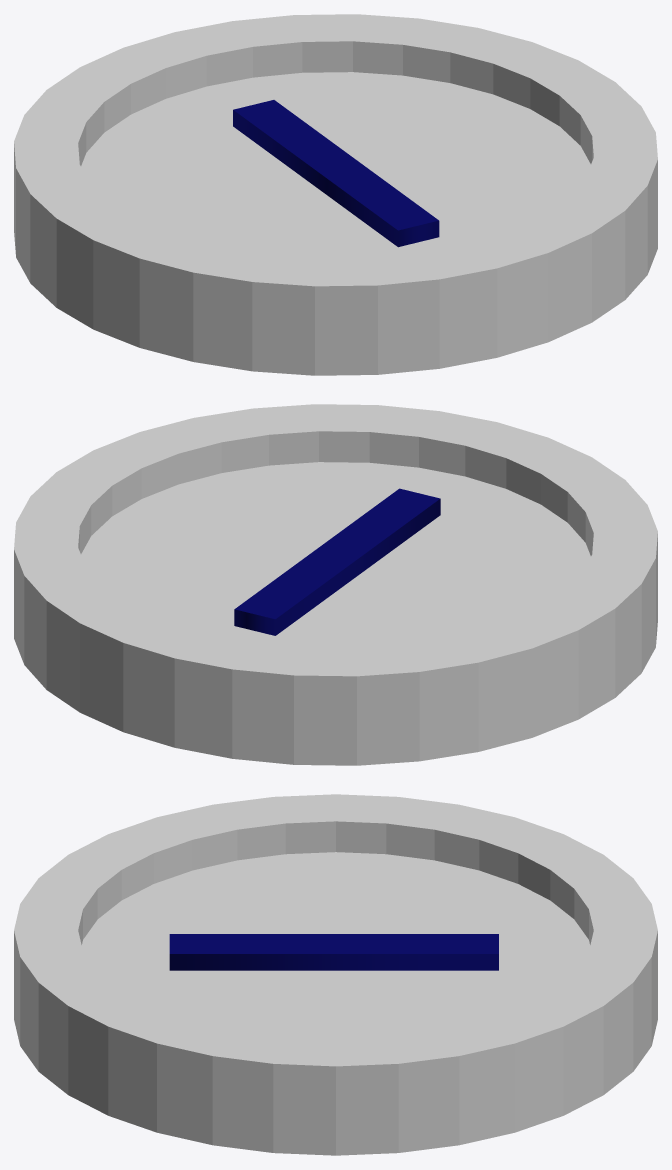
Rendered from moneta_1.fbx.
3 views of the same model, one above another, from view 1: azimuth 30°, elevation 25°; view 2: azimuth 150°, elevation 25°; view 3: azimuth 270°, elevation 25° (orthographic).
Parts seen in each view (by area): view 1: MONETA_1, NOMINAL_G; view 2: MONETA_1, NOMINAL_G; view 3: MONETA_1, NOMINAL_G.
Boxes of the visible parts, box(x1,y1,x2,y2) form: MONETA_1: box(14, 14, 657, 375); NOMINAL_G: box(233, 100, 439, 247); MONETA_1: box(14, 404, 657, 765); NOMINAL_G: box(234, 488, 440, 635); MONETA_1: box(14, 794, 657, 1155); NOMINAL_G: box(169, 934, 498, 970).
Size of the model in its own units: 200 by 30.58 by 200.
